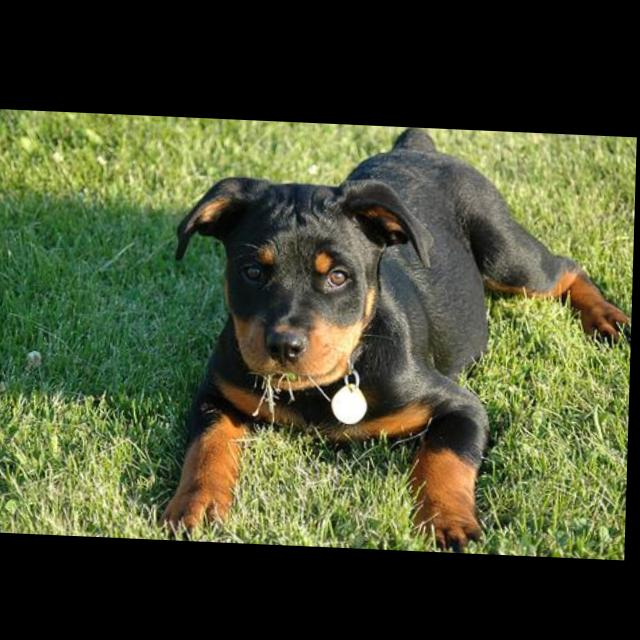rottweiler: (161, 116, 638, 555)
